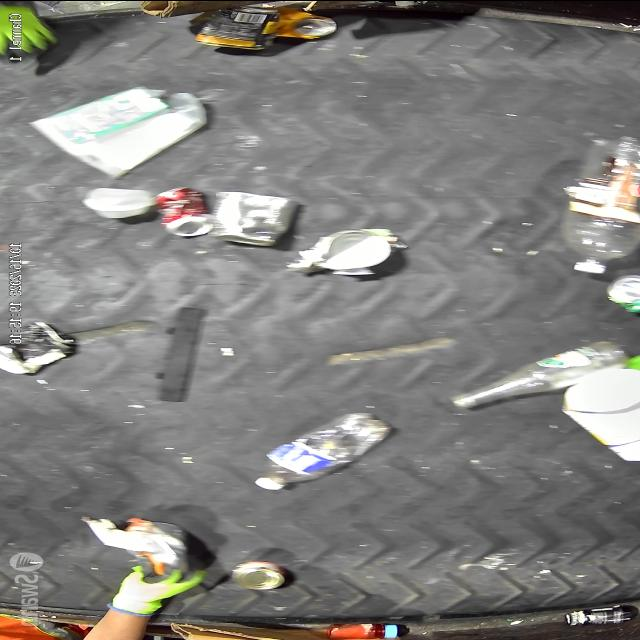can: (207, 187, 296, 246), (1, 318, 78, 376), (316, 226, 394, 272), (154, 184, 216, 238), (232, 559, 287, 591), (282, 11, 334, 42), (604, 274, 640, 314)
plastic_bottle: (450, 339, 629, 409), (554, 133, 640, 274), (248, 410, 392, 490)
